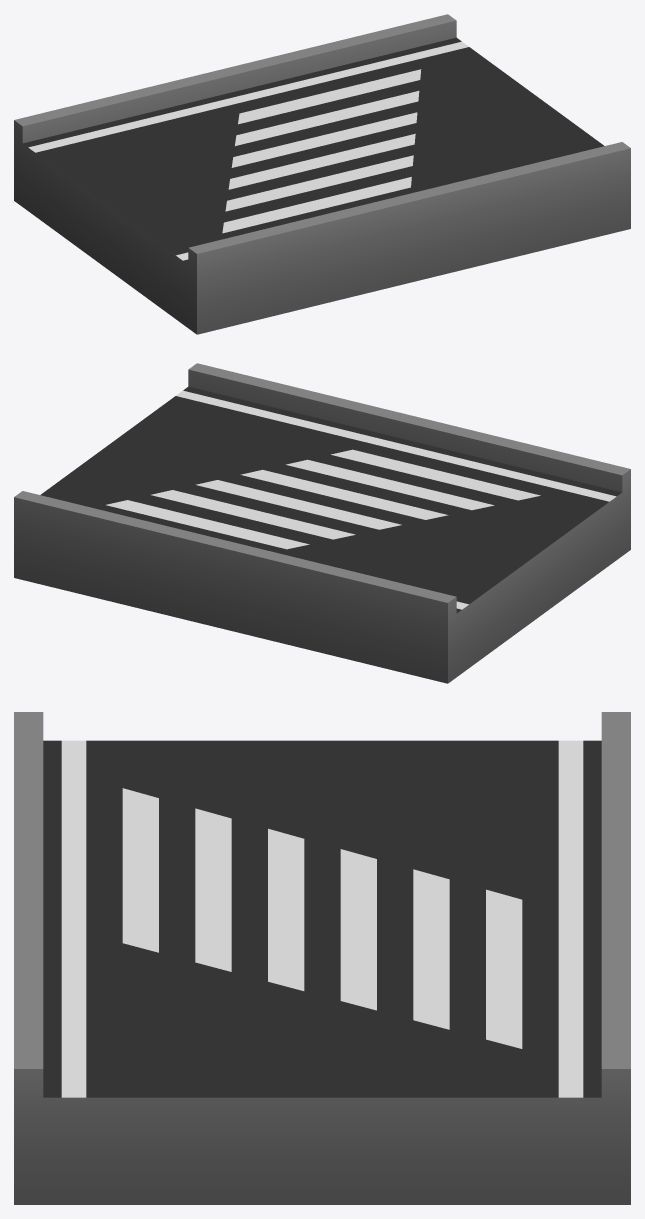
The model's file is Crosswalk_Diagonal.fbx.
3 views of the same model, one above another, from view 1: azimuth 30°, elevation 25°; view 2: azimuth 150°, elevation 25°; view 3: azimuth 270°, elevation 25° (orthographic). The views are drawn at different scales.
Visible parts, largest first — view 1: Crosswalk_Diagonal; view 2: Crosswalk_Diagonal; view 3: Crosswalk_Diagonal.
Boxes of the visible parts, <box> form: Crosswalk_Diagonal: <box>14,14,630,334</box>; Crosswalk_Diagonal: <box>14,363,630,683</box>; Crosswalk_Diagonal: <box>14,712,630,1204</box>.
Size of the model in its own units: 273 by 48.52 by 199.
